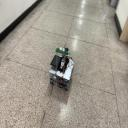cart: (49, 56, 74, 92)
